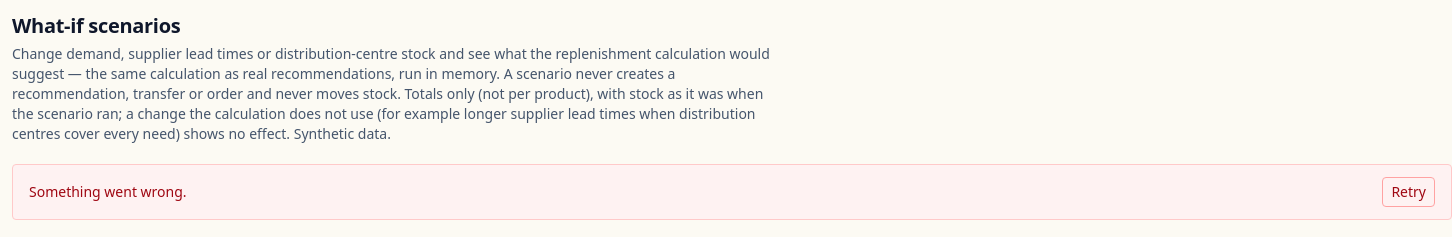
Scenario: a page through its states (Scenarios) › an API error shows the server message, and Retry asks again
Expected: the message shows "Something went wrong.", [29,182,187,201]
Click the button "Retry".
click(1409, 192)  # box [1382,177,1435,207]
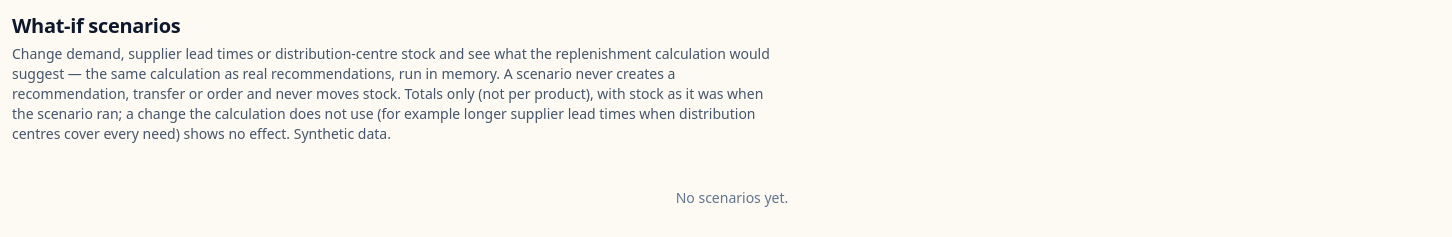
Expected: the text "No scenarios yet." is shown, [676,188,788,207]
